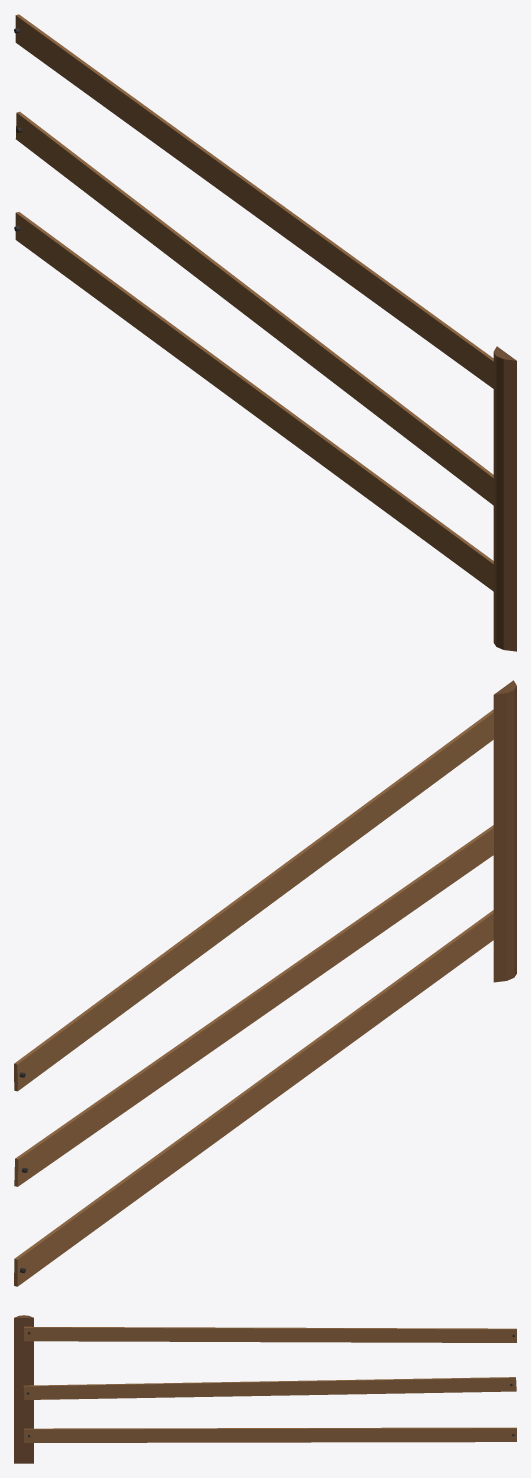
File: fence3.glb
3 renders of one model, top to bottom at view 1: azimuth 30°, elevation 25°; view 2: azimuth 150°, elevation 25°; view 3: azimuth 270°, elevation 25°, orthographic. The views are drawn at different scales.
Visible parts, largest first — view 1: Cylinder.009; view 2: Cylinder.009; view 3: Cylinder.009.
Part boxes in pixels (box(x1,y1,x2,y2)): Cylinder.009: box(14, 14, 516, 651); Cylinder.009: box(14, 680, 516, 1286); Cylinder.009: box(14, 1315, 516, 1463).
Size of what is drawn, in the model's own units: 0.0892 by 1.6 by 5.
